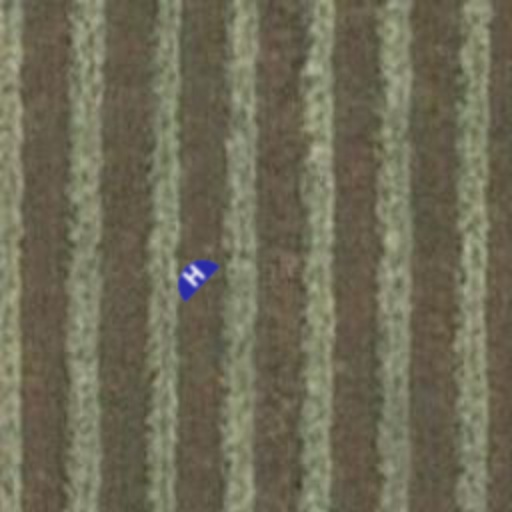semicircle: (158, 240, 230, 312)
